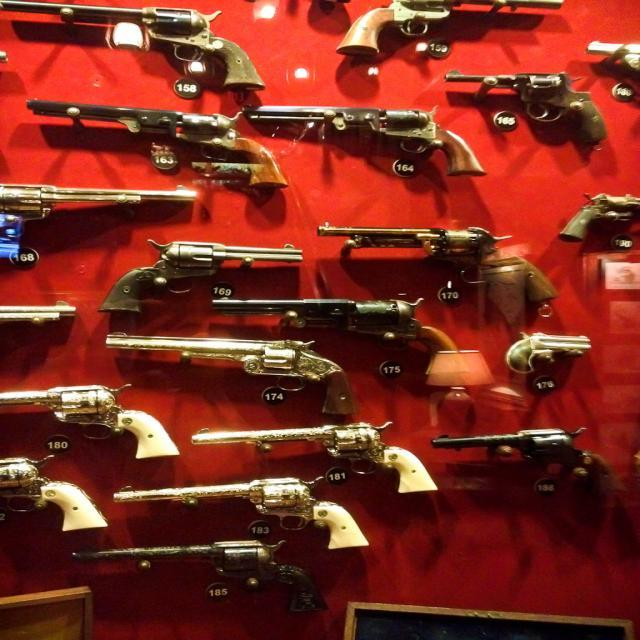Gun: (318, 225, 556, 326), (0, 1, 264, 88), (26, 100, 285, 186), (106, 334, 354, 414), (72, 540, 325, 611), (114, 478, 369, 548), (191, 422, 436, 492), (244, 106, 484, 175), (0, 184, 196, 266), (100, 240, 302, 312), (0, 385, 179, 458), (211, 298, 456, 351), (336, 0, 564, 56), (445, 71, 606, 143), (431, 429, 609, 479), (0, 458, 108, 531), (559, 194, 640, 241), (28, 100, 139, 129), (0, 304, 76, 323), (586, 41, 640, 56)
